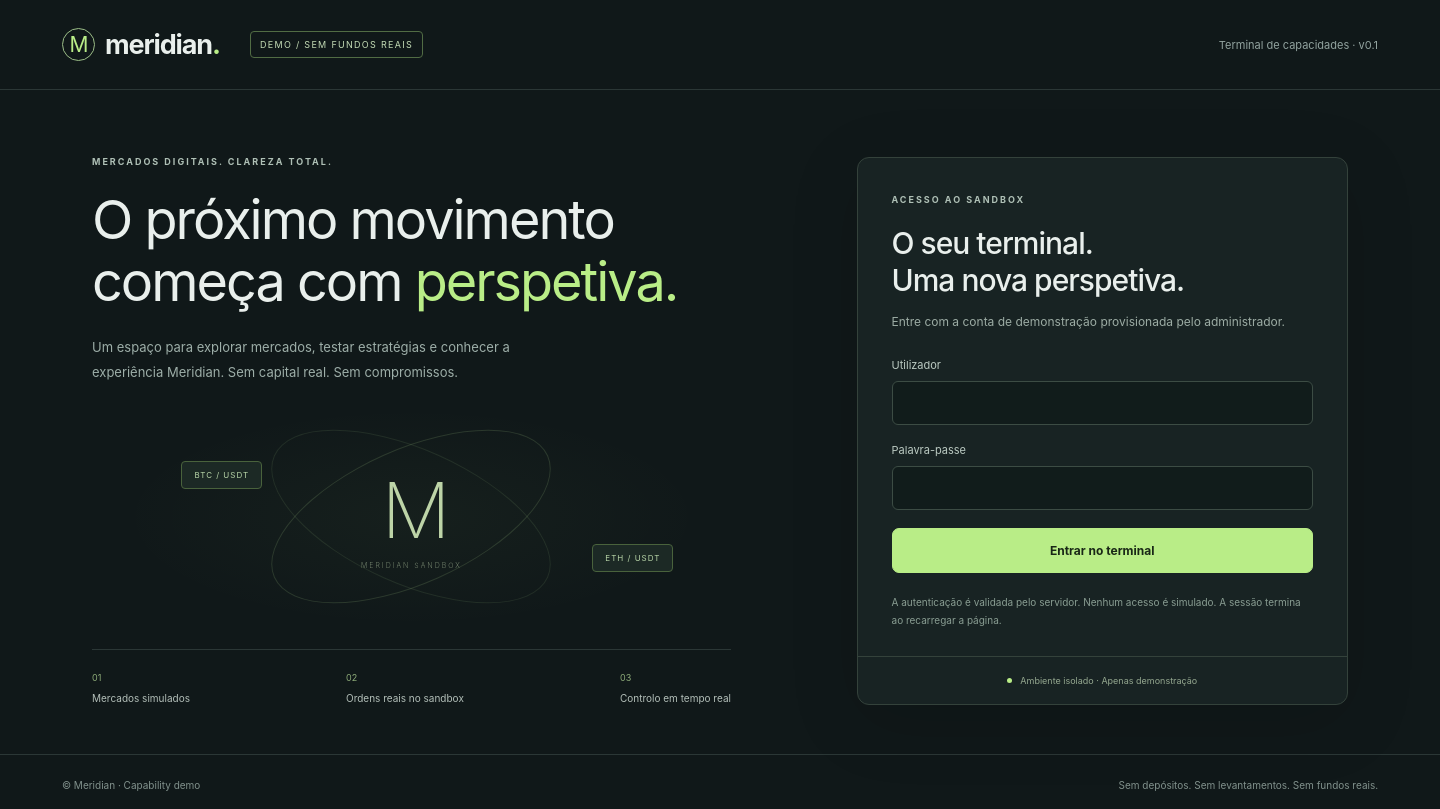
Test case: logout returns to login only after requesting server revocation
Type "tester" into the field labelled "Utilizador" at coordinates (1102, 403), box [892,381,1313,425]
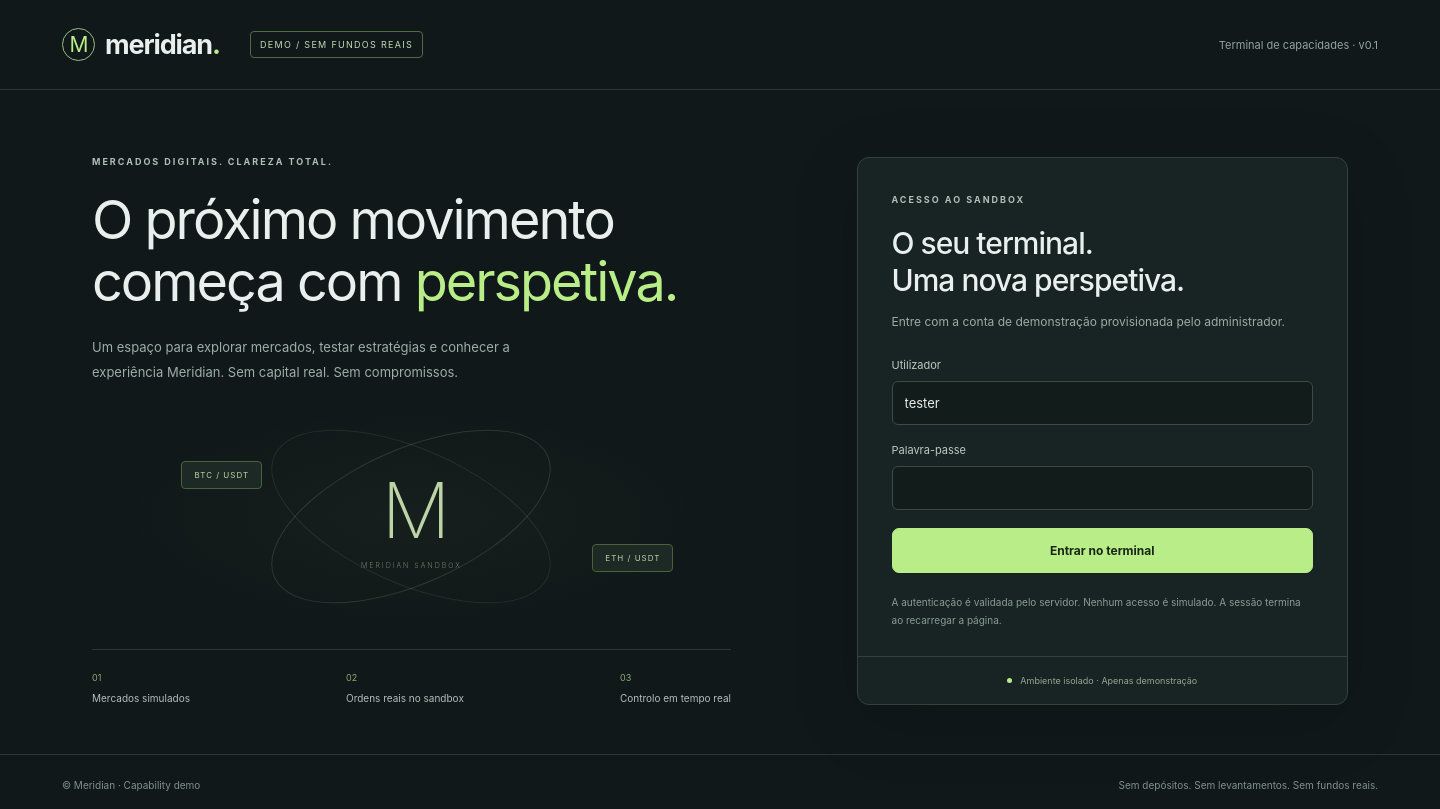
Type "test-only" into the password field labelled "Palavra-passe" at coordinates (1102, 488), box [892,466,1313,510]
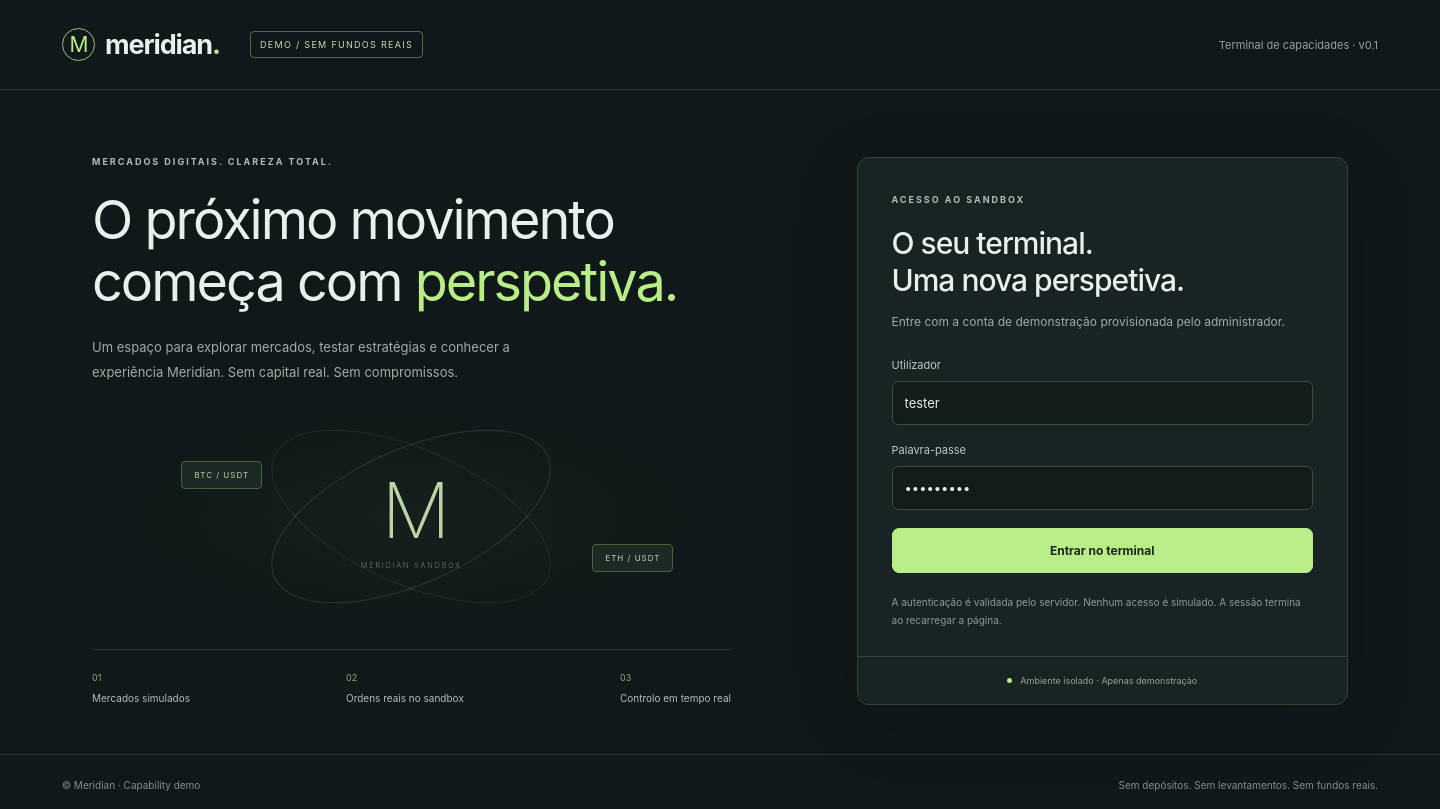
Click the button "Entrar no terminal" at coordinates (1102, 550), box [892,528,1313,573]
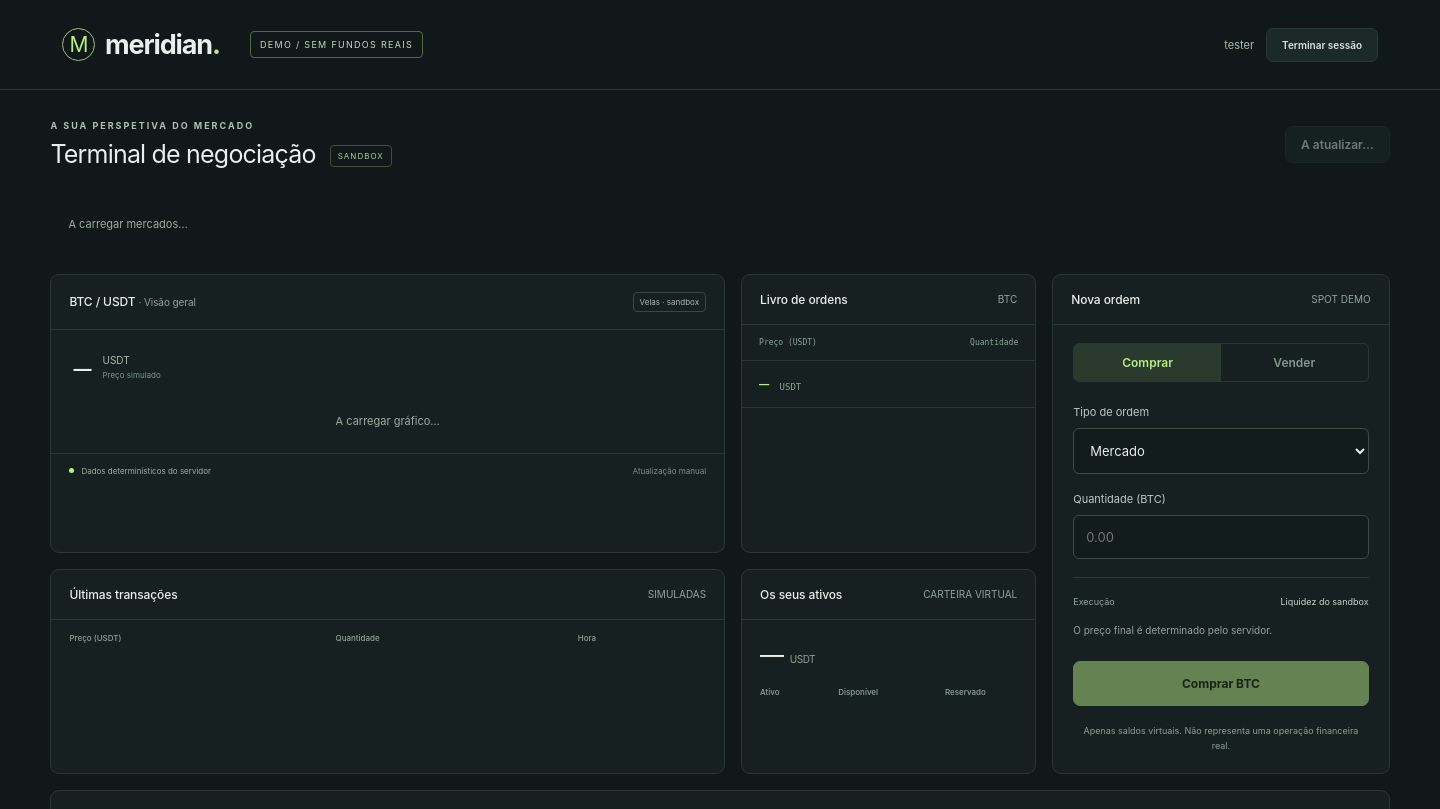
expect the heading "Livro de ordens" is shown: met, box [760,292,848,307]
Click the button "Terminar sessão" at coordinates (1322, 44), box [1266,28,1378,62]
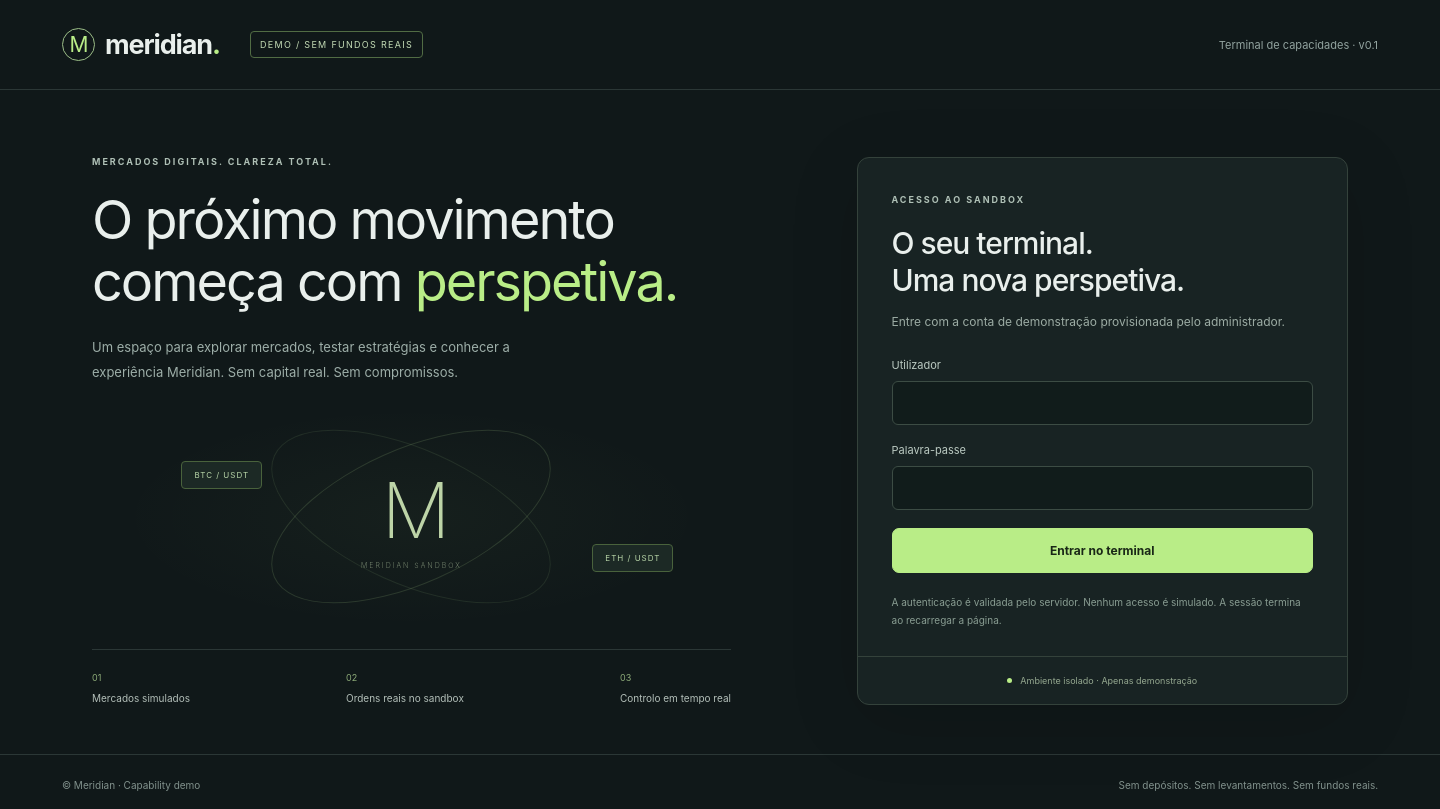
expect the field labelled "Utilizador" is shown: met, box [892,381,1313,425]
